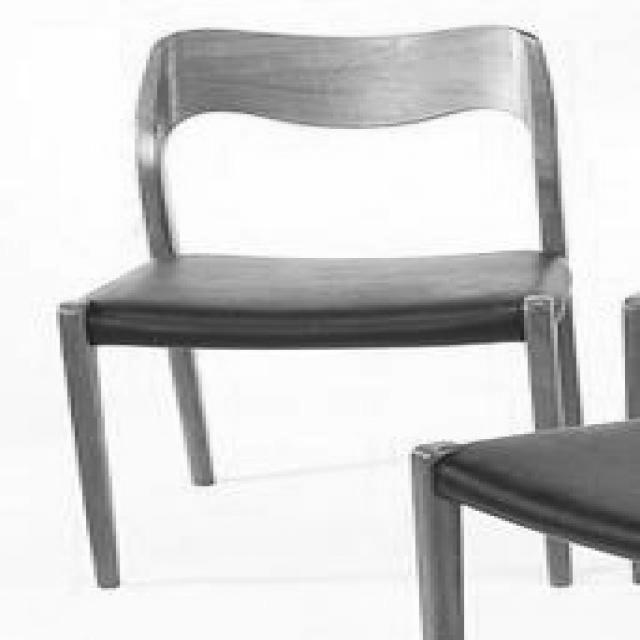chair: (52, 8, 589, 588)
